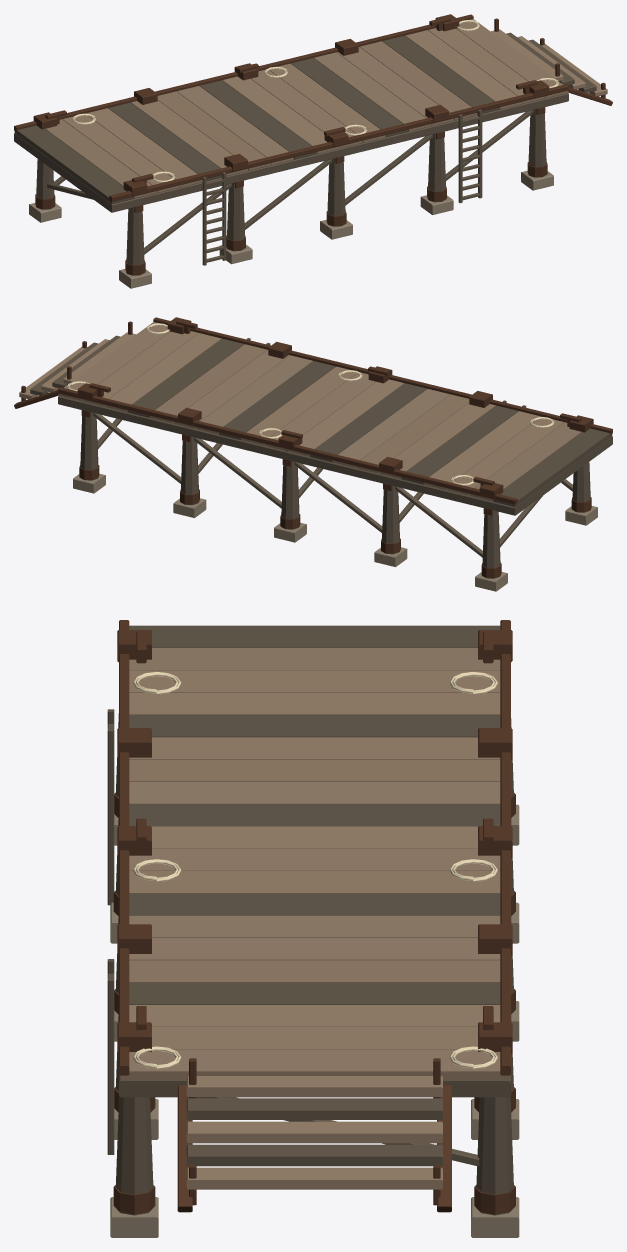
The model's file is dock_harbor_coastal_a.glb.
3 views of the same model, one above another, from view 1: azimuth 30°, elevation 25°; view 2: azimuth 150°, elevation 25°; view 3: azimuth 270°, elevation 25° (orthographic). The views are drawn at different scales.
Parts seen in each view (by area): view 1: dock_harbor_coastal_a_timber; view 2: dock_harbor_coastal_a_timber; view 3: dock_harbor_coastal_a_timber.
Part boxes in pixels (x1=…): dock_harbor_coastal_a_timber: x1=14, y1=14, x2=612, y2=288; dock_harbor_coastal_a_timber: x1=14, y1=317, x2=612, y2=591; dock_harbor_coastal_a_timber: x1=107, y1=620, x2=519, y2=1237.
Size of the model in its own units: 15.81 by 2.98 by 5.46.
